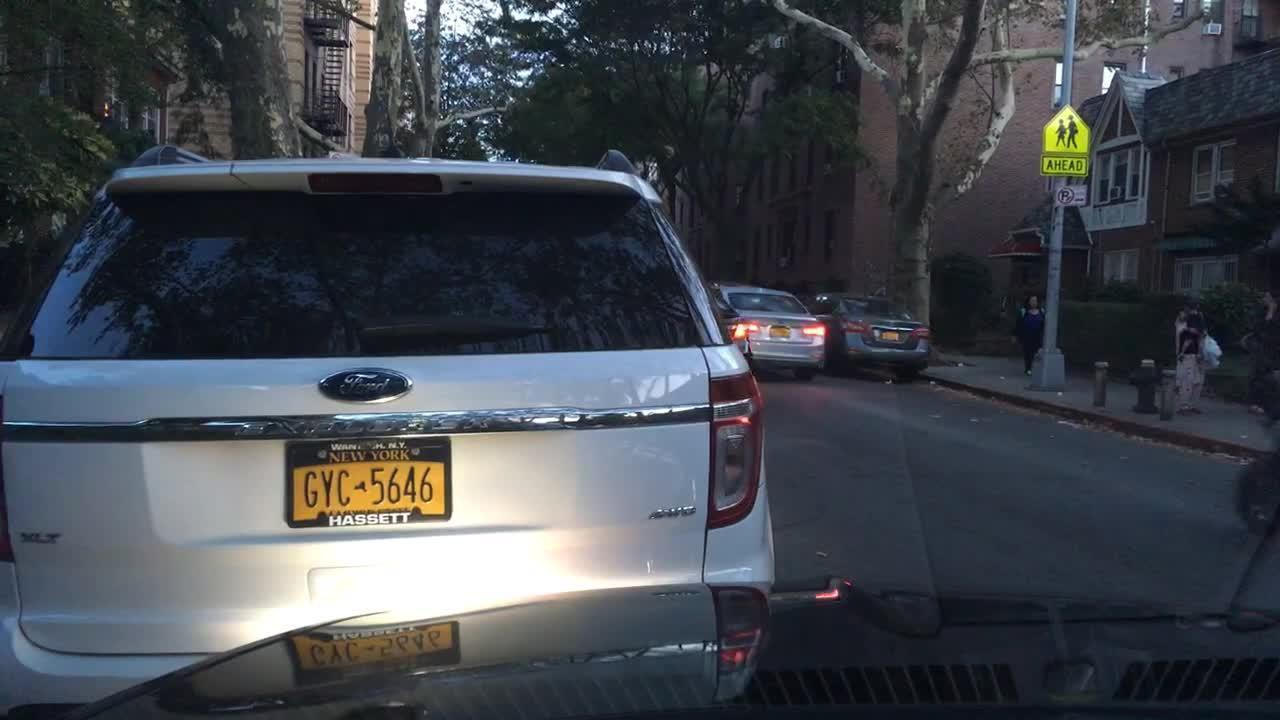ford: (313, 362, 423, 405)
